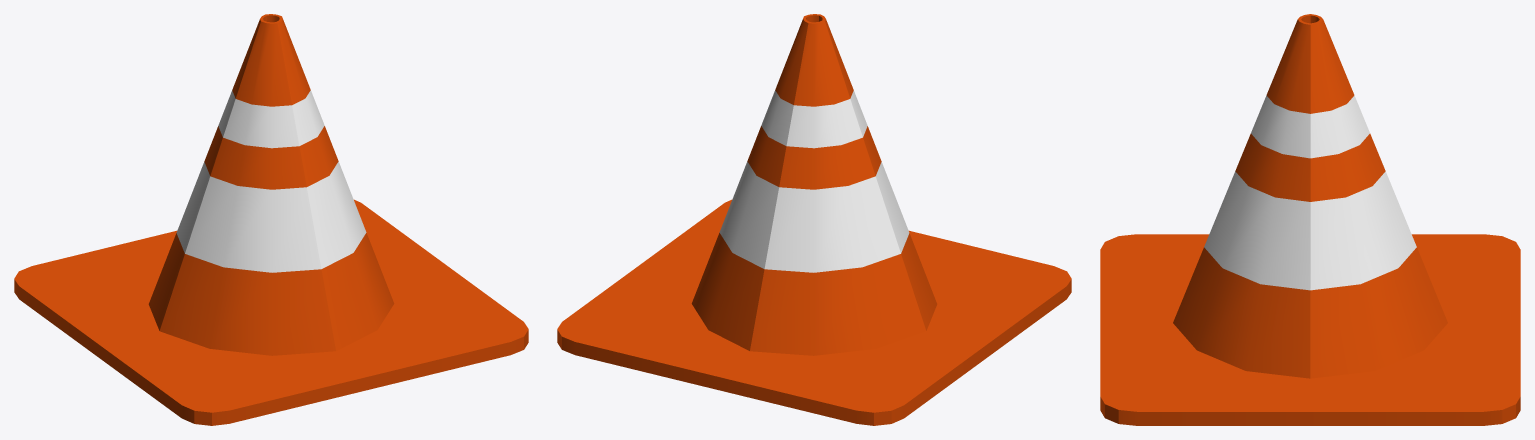
File: DroneRacingTrafficCone.fbx
The picture shows the model from 3 angles, left to right: view 1: azimuth 30°, elevation 25°; view 2: azimuth 150°, elevation 25°; view 3: azimuth 270°, elevation 25°; orthographic projection. The views are drawn at different scales.
Parts seen in each view (by area): view 1: Cone; view 2: Cone; view 3: Cone.
Part boxes in pixels (left/top/right/bottom): Cone: left=14, top=14, right=528, bottom=425; Cone: left=557, top=14, right=1071, bottom=425; Cone: left=1100, top=14, right=1520, bottom=425.
Bounding box in the file's own units: 462 × 385 × 462.
